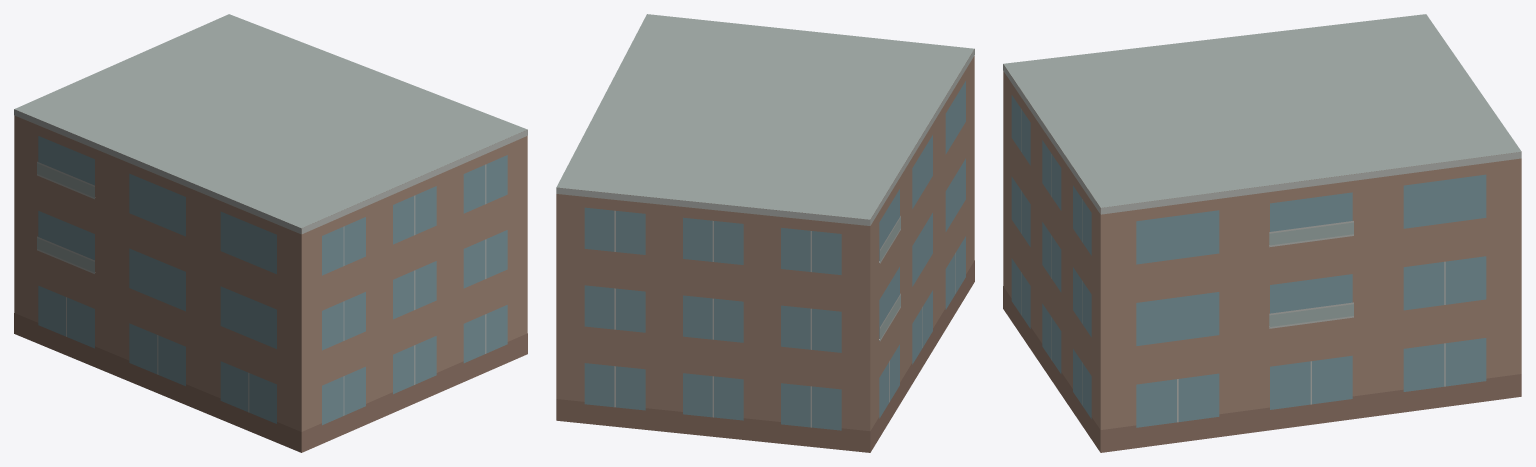
Rendered from survey-upis-32852264.glb.
The picture shows the model from 3 angles, left to right: view 1: azimuth 30°, elevation 25°; view 2: azimuth 150°, elevation 25°; view 3: azimuth 270°, elevation 25°; orthographic projection. The views are drawn at different scales.
Visible parts, largest first — view 1: survey-upis-32852264.tmp; view 2: survey-upis-32852264.tmp; view 3: survey-upis-32852264.tmp.
Boxes of the visible parts, <box> form: survey-upis-32852264.tmp: <box>14,14,527,452</box>; survey-upis-32852264.tmp: <box>556,14,974,452</box>; survey-upis-32852264.tmp: <box>1003,14,1521,452</box>.
Size of the model in its own units: 15.09 by 8.88 by 17.05.
